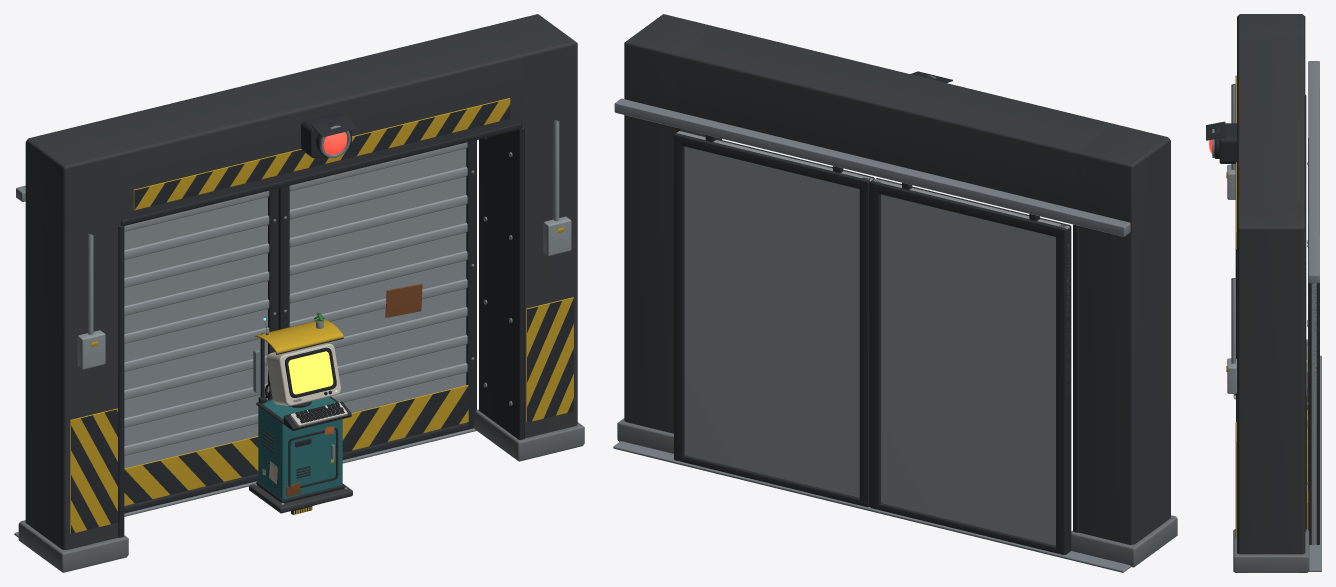
Rendered from interactables.glb.
The picture shows the model from 3 angles, left to right: view 1: azimuth 30°, elevation 25°; view 2: azimuth 150°, elevation 25°; view 3: azimuth 270°, elevation 25°; orthographic projection. The views are drawn at different scales.
Parts seen in each view (by area): view 1: GateFrame, DoorR, DoorL, Kiosk, Screen; view 2: GateFrame, DoorL, DoorR; view 3: GateFrame, DoorR, DoorL.
Part boxes in pixels (x1=…): GateFrame: x1=14, y1=14, x2=584, y2=572; DoorR: x1=278, y1=140, x2=476, y2=459; DoorL: x1=124, y1=188, x2=279, y2=513; Kiosk: x1=249, y1=313, x2=352, y2=513; Screen: x1=288, y1=351, x2=333, y2=394; GateFrame: x1=613, y1=14, x2=1177, y2=572; DoorL: x1=869, y1=178, x2=1071, y2=554; DoorR: x1=674, y1=130, x2=874, y2=507; GateFrame: x1=1206, y1=14, x2=1321, y2=572; DoorR: x1=1306, y1=221, x2=1319, y2=544; DoorL: x1=1306, y1=138, x2=1308, y2=428.
Bounding box in the file's own units: 5.28 × 4.08 × 1.19.
